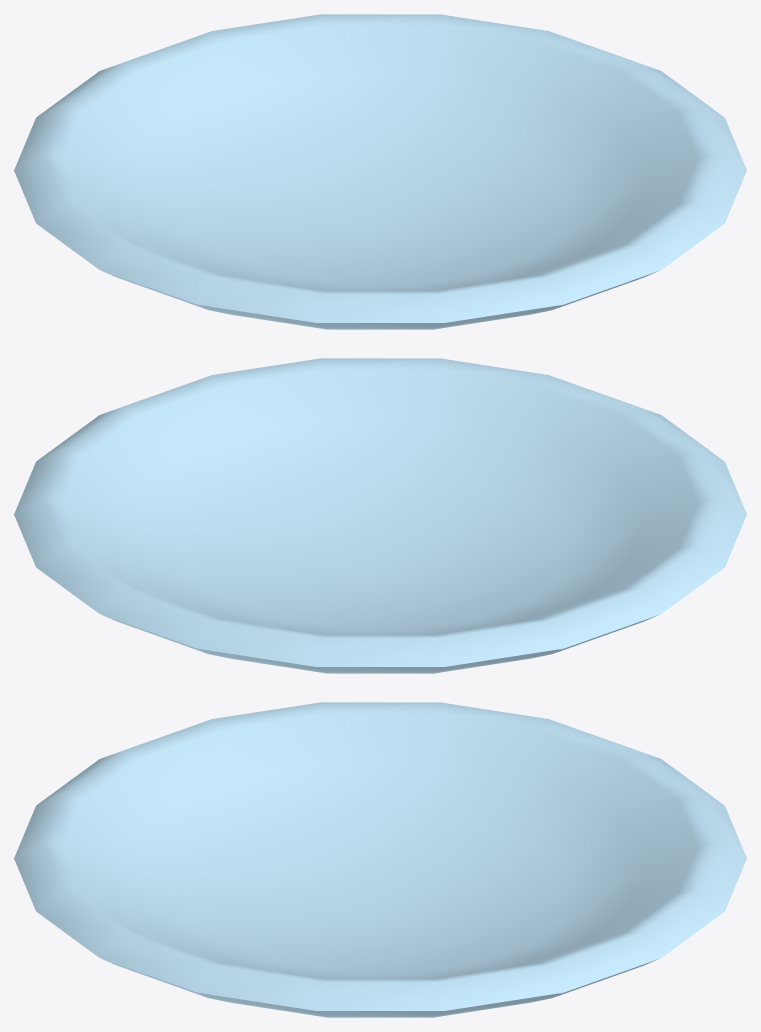
File: Environment_Plate.glb
3 views of the same model, one above another, from view 1: azimuth 30°, elevation 25°; view 2: azimuth 150°, elevation 25°; view 3: azimuth 270°, elevation 25° (orthographic).
Parts seen in each view (by area): view 1: Environment_Plate; view 2: Environment_Plate; view 3: Environment_Plate.
Boxes of the visible parts, <box> form: Environment_Plate: <box>14,14,746,329</box>; Environment_Plate: <box>14,358,746,673</box>; Environment_Plate: <box>14,702,746,1017</box>.
Size of the model in its own units: 1 by 0.1479 by 1.02.
1 material, 1 textured.
